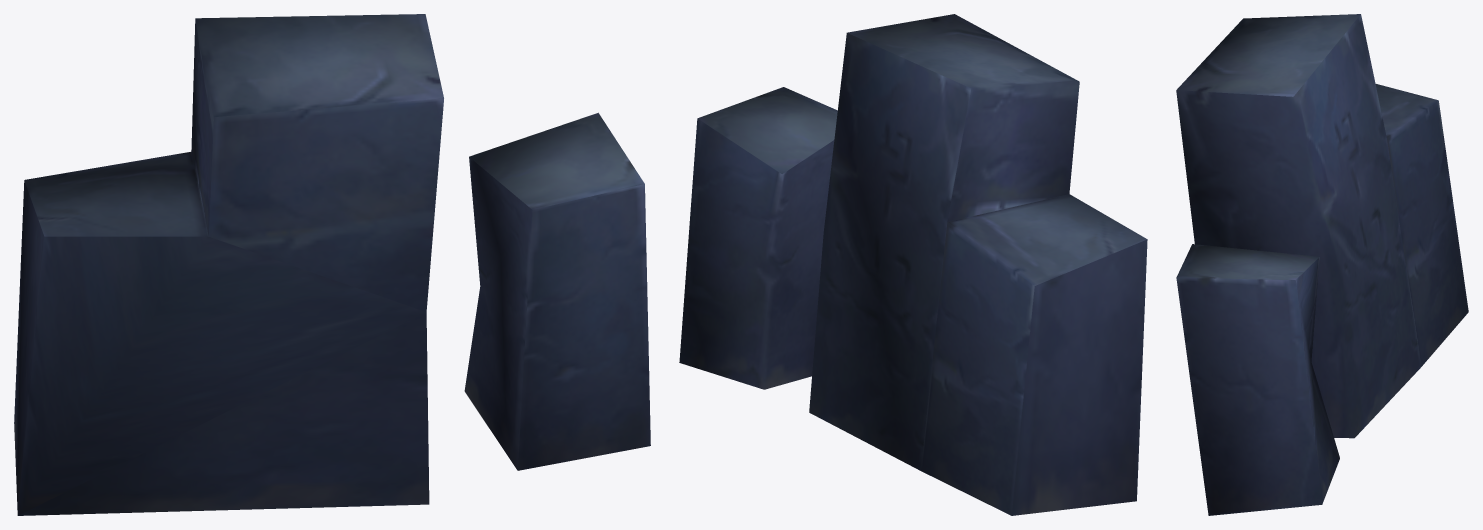
Rendered from Area_11_9.fbx.
The picture shows the model from 3 angles, left to right: view 1: azimuth 30°, elevation 25°; view 2: azimuth 150°, elevation 25°; view 3: azimuth 270°, elevation 25°; orthographic projection. The views are drawn at different scales.
Parts seen in each view (by area): view 1: Area_11_9; view 2: Area_11_9; view 3: Area_11_9.
Part boxes in pixels (x1,y1,x2,y2): Area_11_9: [14, 14, 650, 515]; Area_11_9: [679, 14, 1147, 515]; Area_11_9: [1176, 14, 1468, 515].
Bounding box in the file's own units: 966 × 757 × 549.
